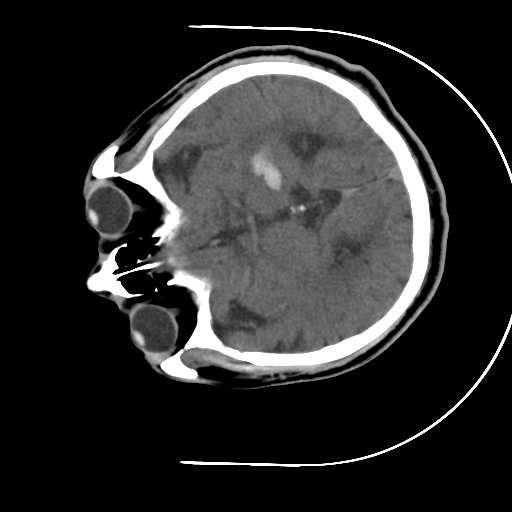a: (229, 124, 302, 209)
